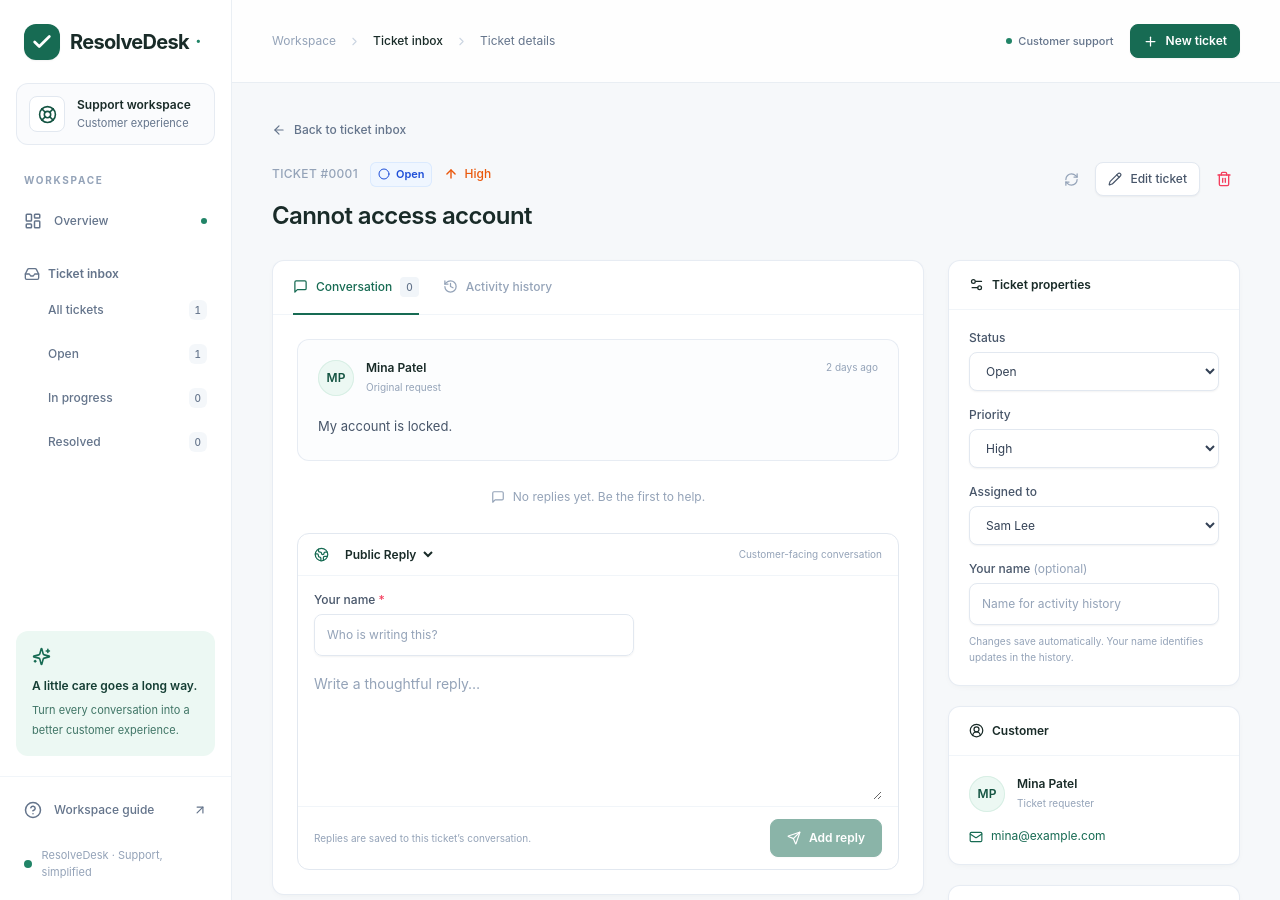
Scenario: workspace workflows › patches only changed fields when editing and refreshes displayed data
Expected: the heading "Cannot access account" is shown, [272,200,532,230]
Click the button "Edit ticket" at [1148, 179], box [1095,162,1200,196]
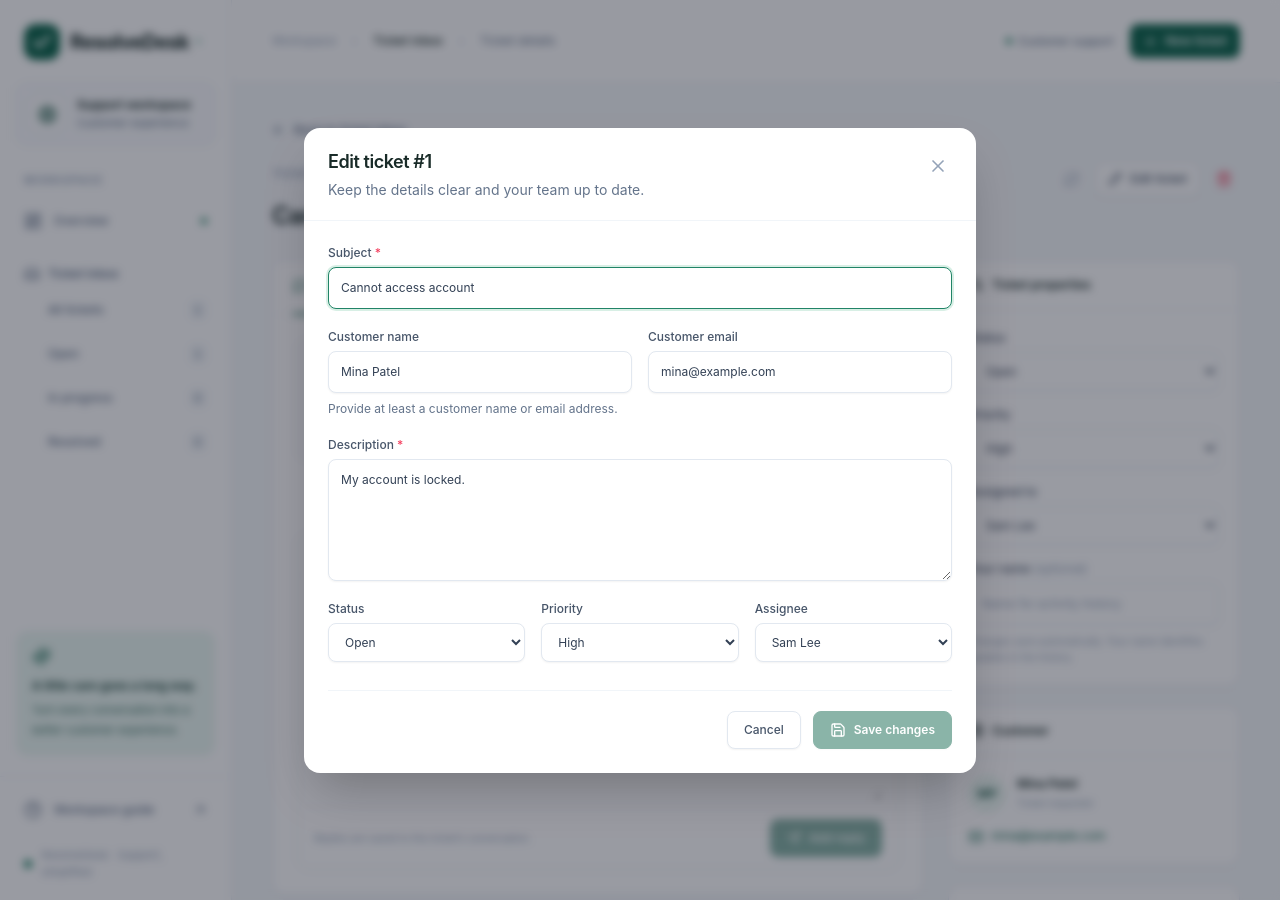
Replace the text in the field labelled "Subject *" with "Updated account issue" at [640, 288], box [328,266,952,308]
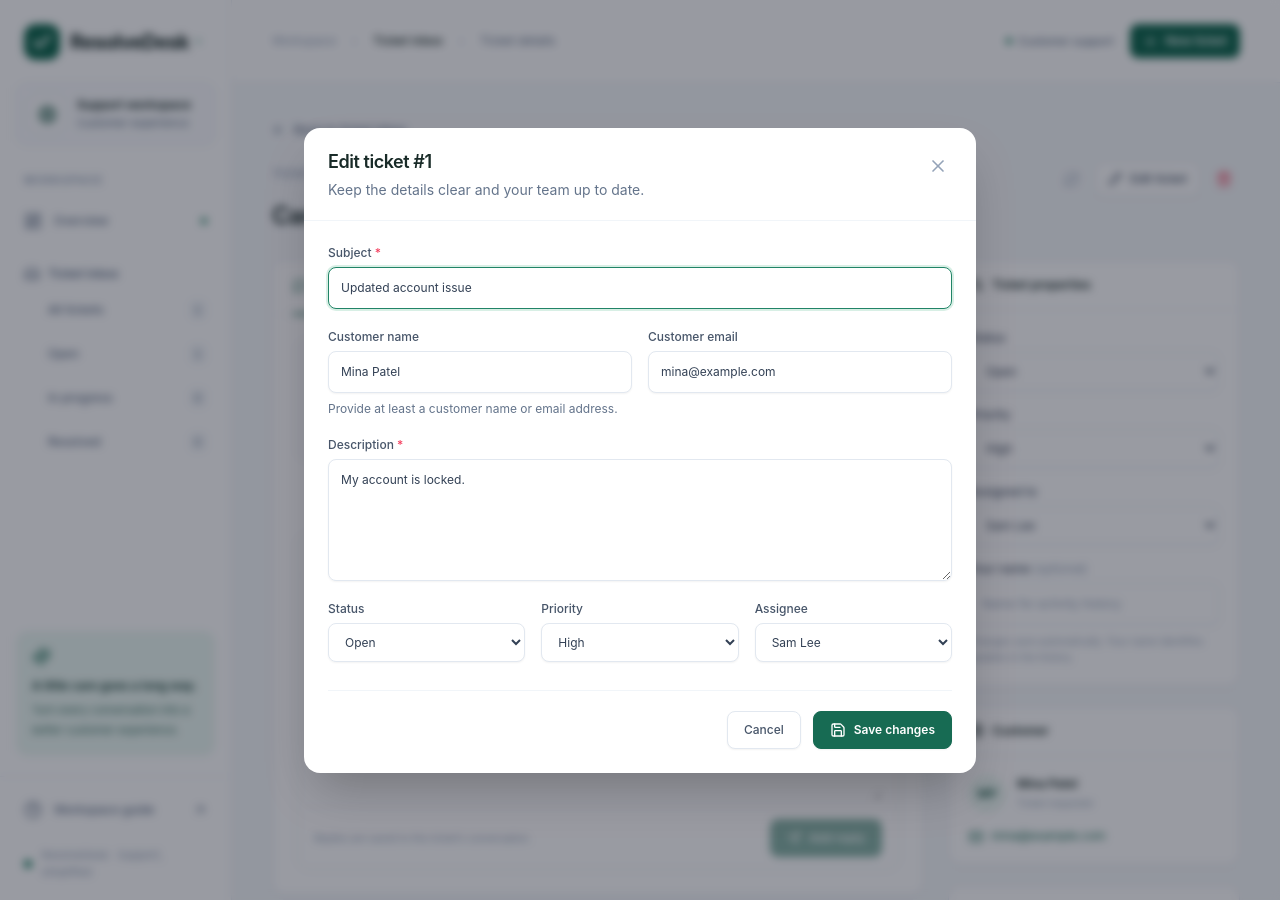
Click the button "Save changes" at [882, 730], box [813,710,952,748]
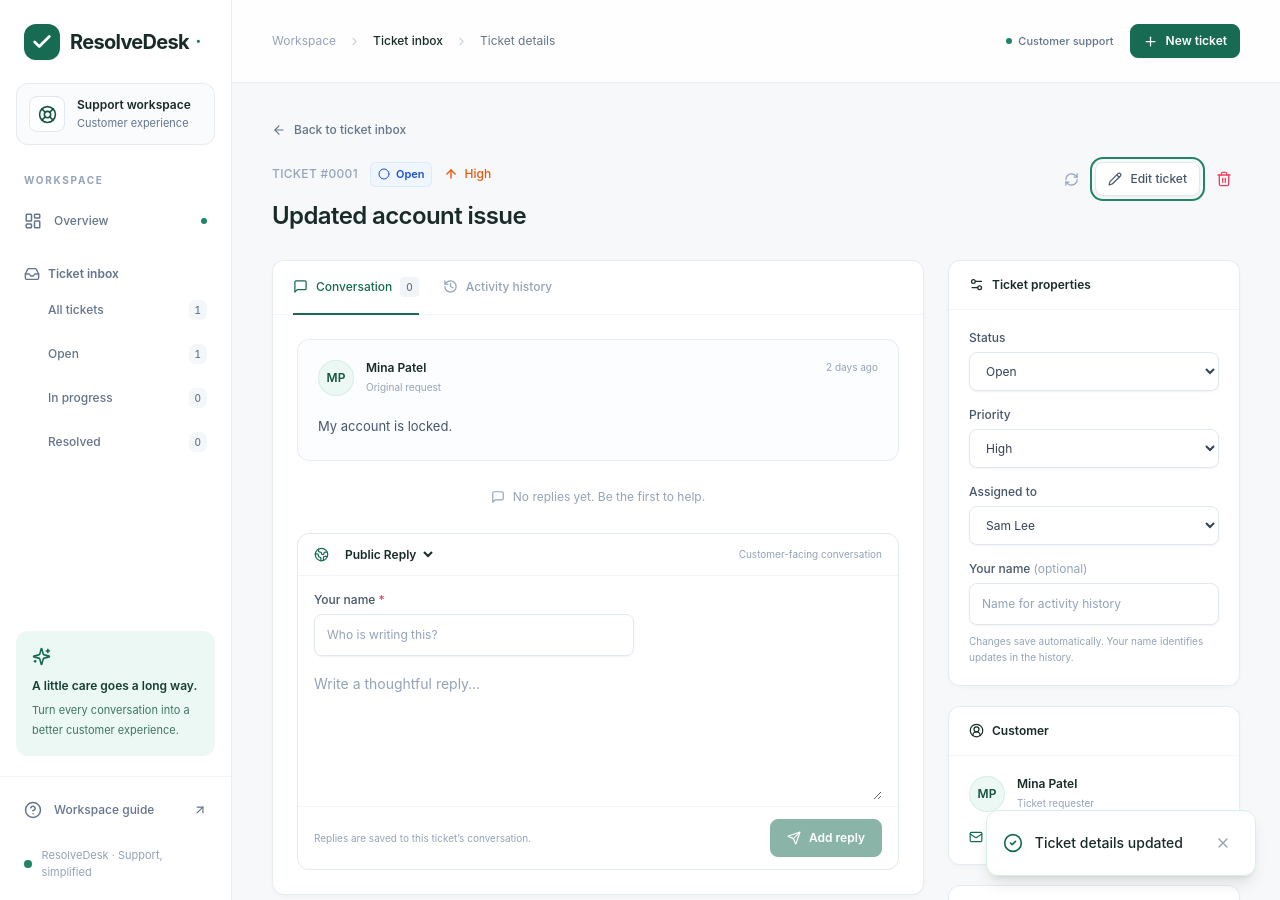
Now the heading "Updated account issue" is shown, box [272,200,526,230]
